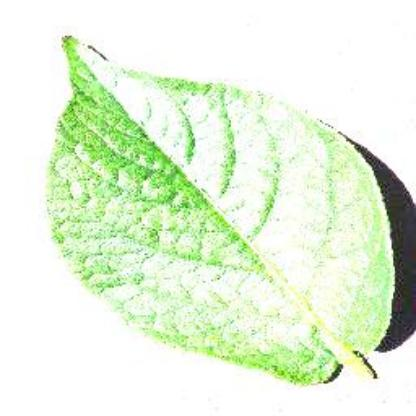Healthy-plant: (44, 31, 396, 387)
